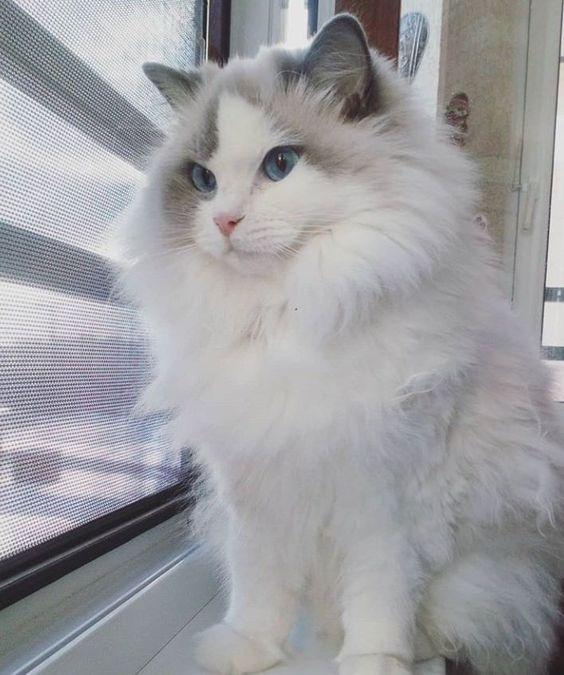ragdoll: (106, 11, 427, 332)
